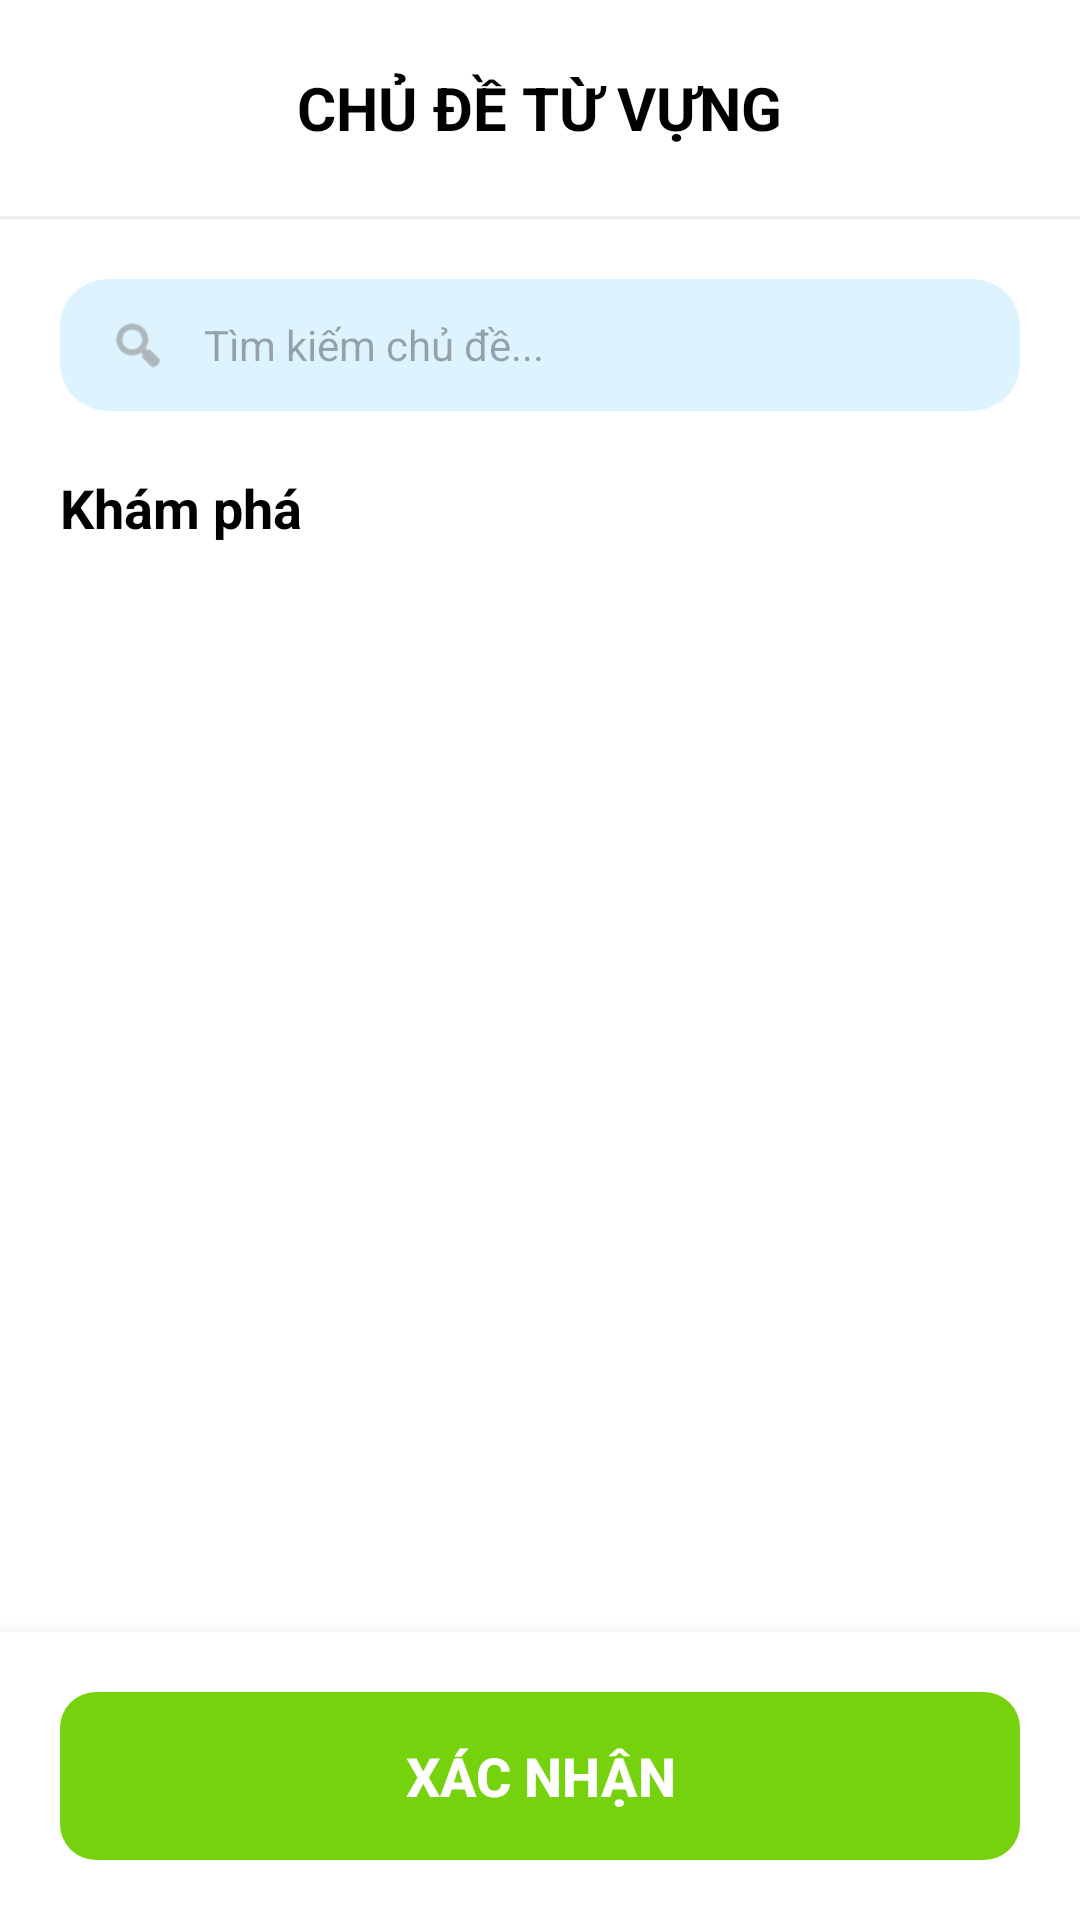

Point at icon controls on the screen. Image size 1080 x 1920, points as (x=x, y=y).
search: (x=138, y=345)
